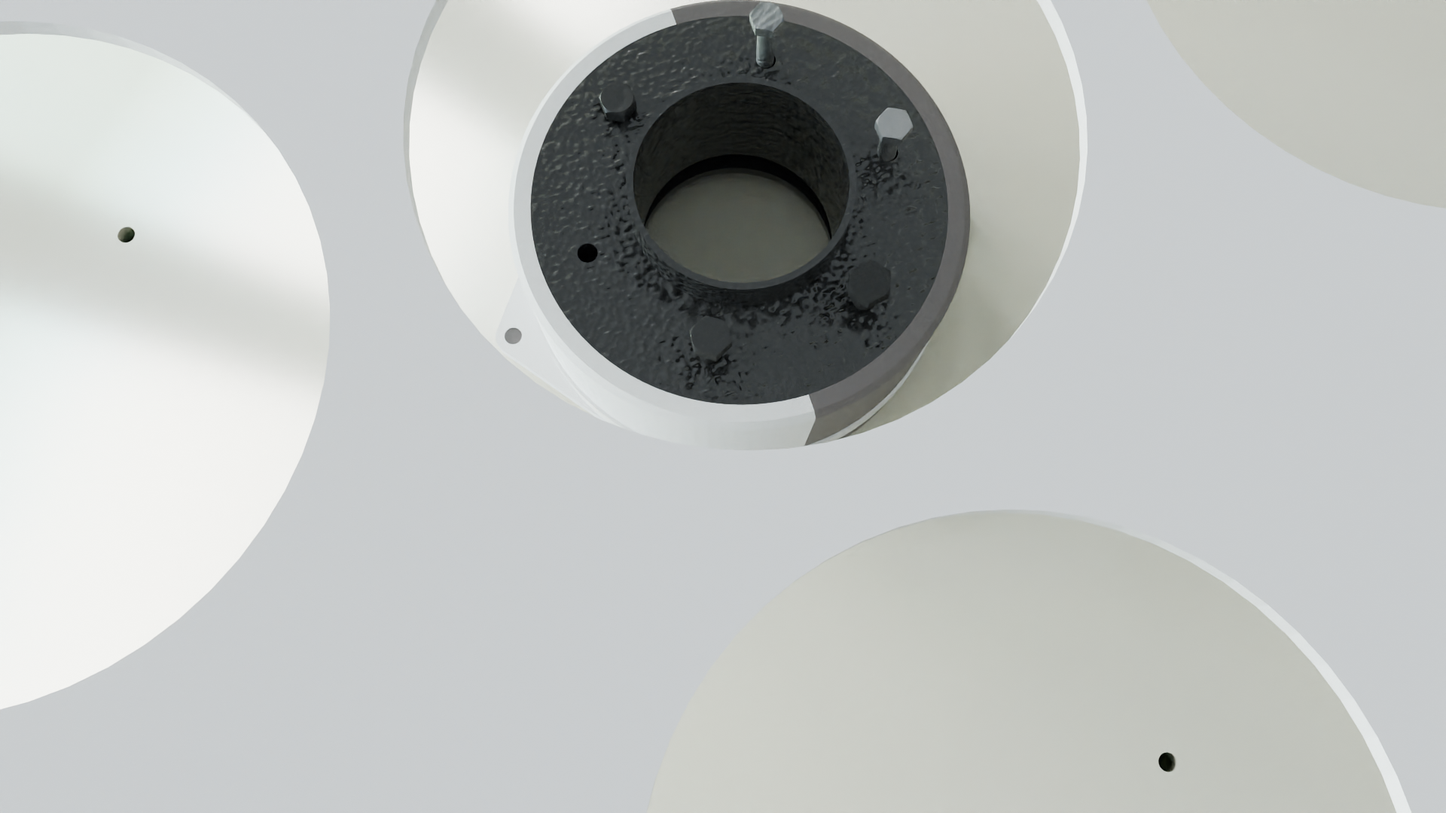bolt: (850, 259, 891, 303), (690, 315, 732, 357), (599, 83, 636, 115), (876, 108, 913, 140), (749, 2, 784, 32)
